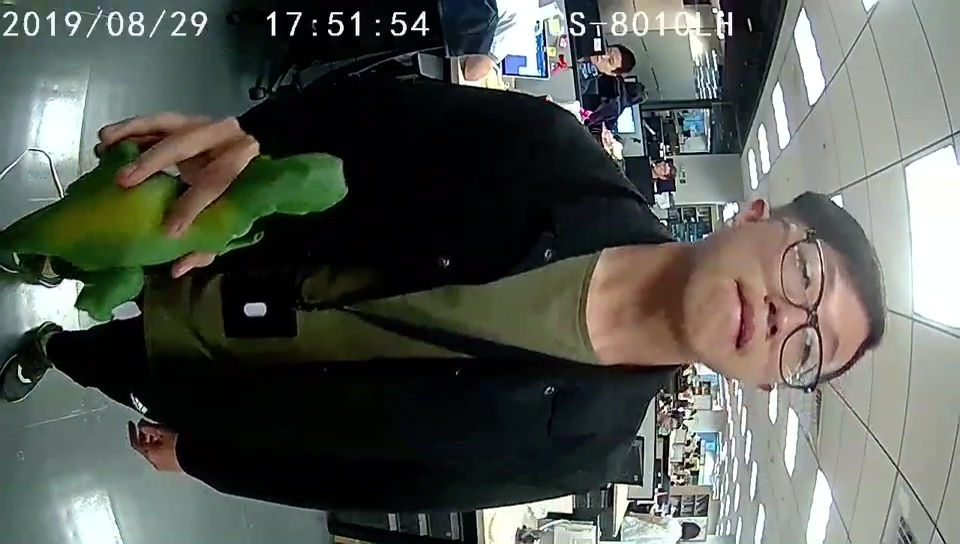rex: (62, 138, 347, 322)
